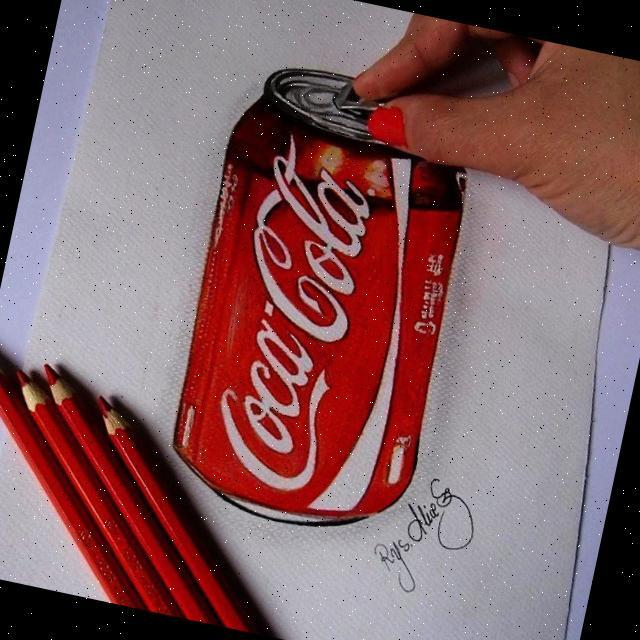coca-cola: (147, 45, 499, 549)
